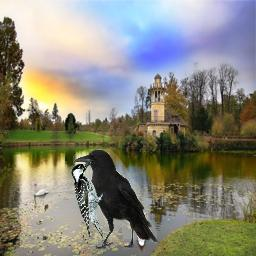Crow: (73, 149, 158, 250)
Woodpecker: (71, 160, 103, 239)
